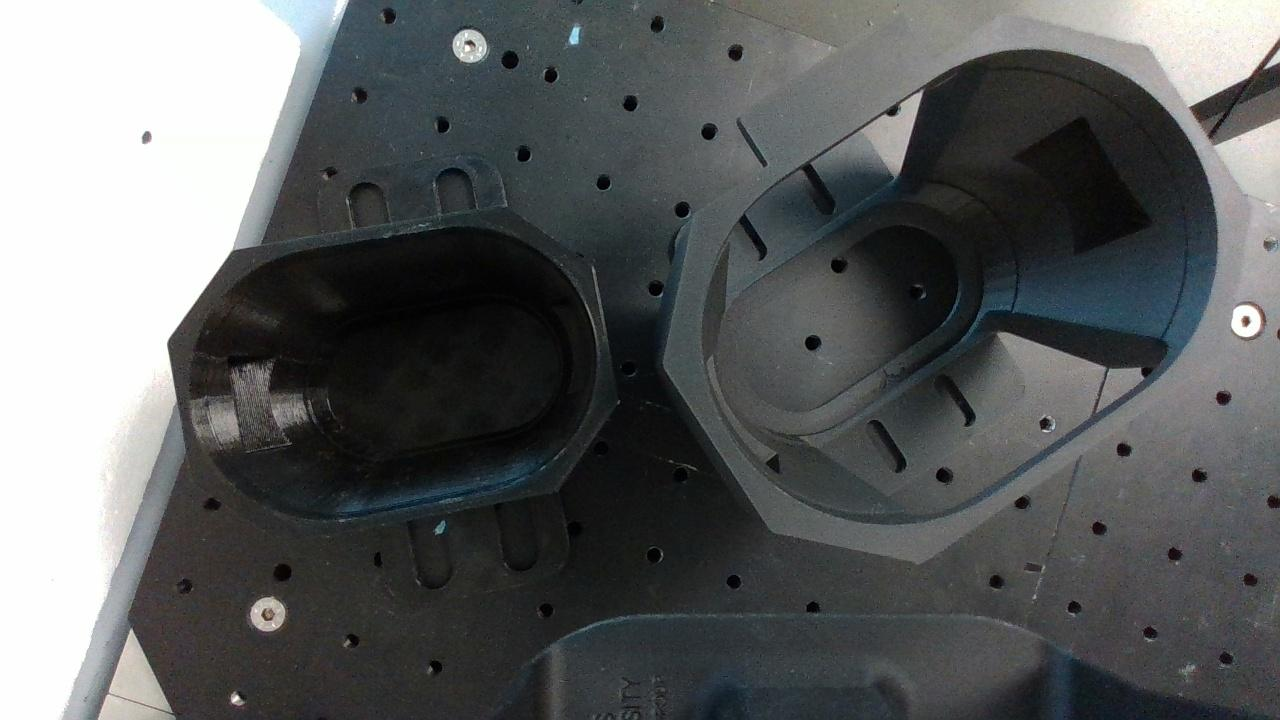big_interface: (662, 12, 1251, 567)
small_interface: (167, 204, 618, 544)
